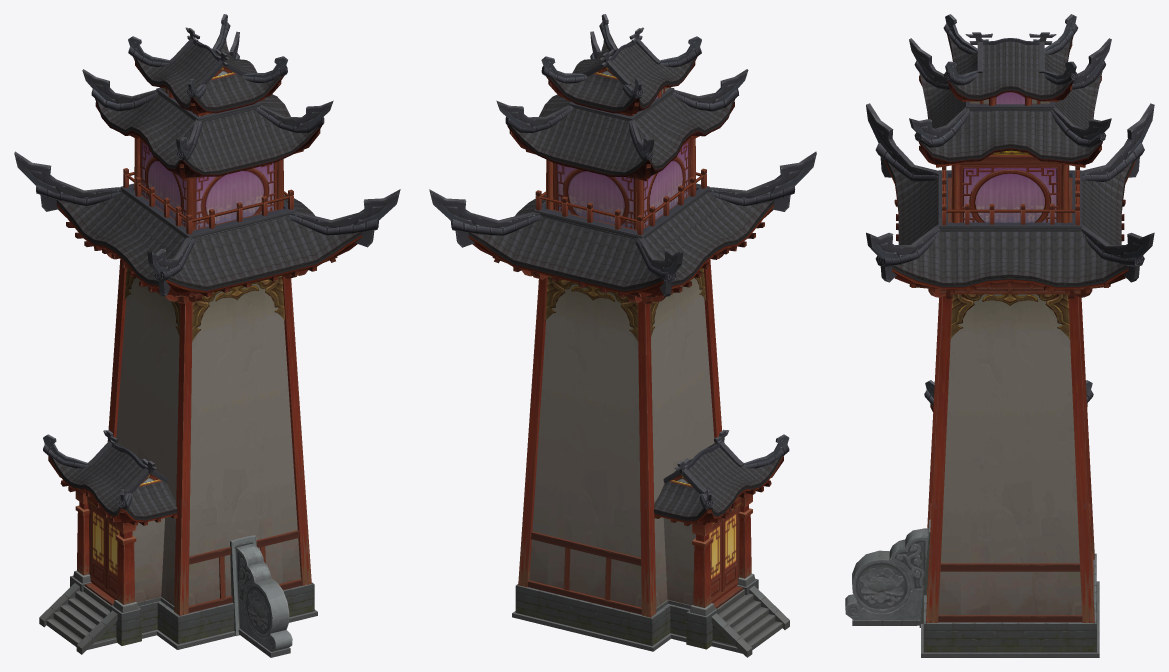
Rendered from ZYbui_CLF_jiaolou01.FBX.
3 renders of one model, left to right at view 1: azimuth 30°, elevation 25°; view 2: azimuth 150°, elevation 25°; view 3: azimuth 270°, elevation 25°, orthographic. The views are drawn at different scales.
Visible parts, largest first — view 1: ZYbui_CLF_jiaolou01; view 2: ZYbui_CLF_jiaolou01; view 3: ZYbui_CLF_jiaolou01.
Part boxes in pixels (x1,y1,x2,y2): ZYbui_CLF_jiaolou01: (14,14,400,657); ZYbui_CLF_jiaolou01: (429,14,816,657); ZYbui_CLF_jiaolou01: (845,14,1154,657).
Size of the model in its own units: 980 by 1930 by 911.
